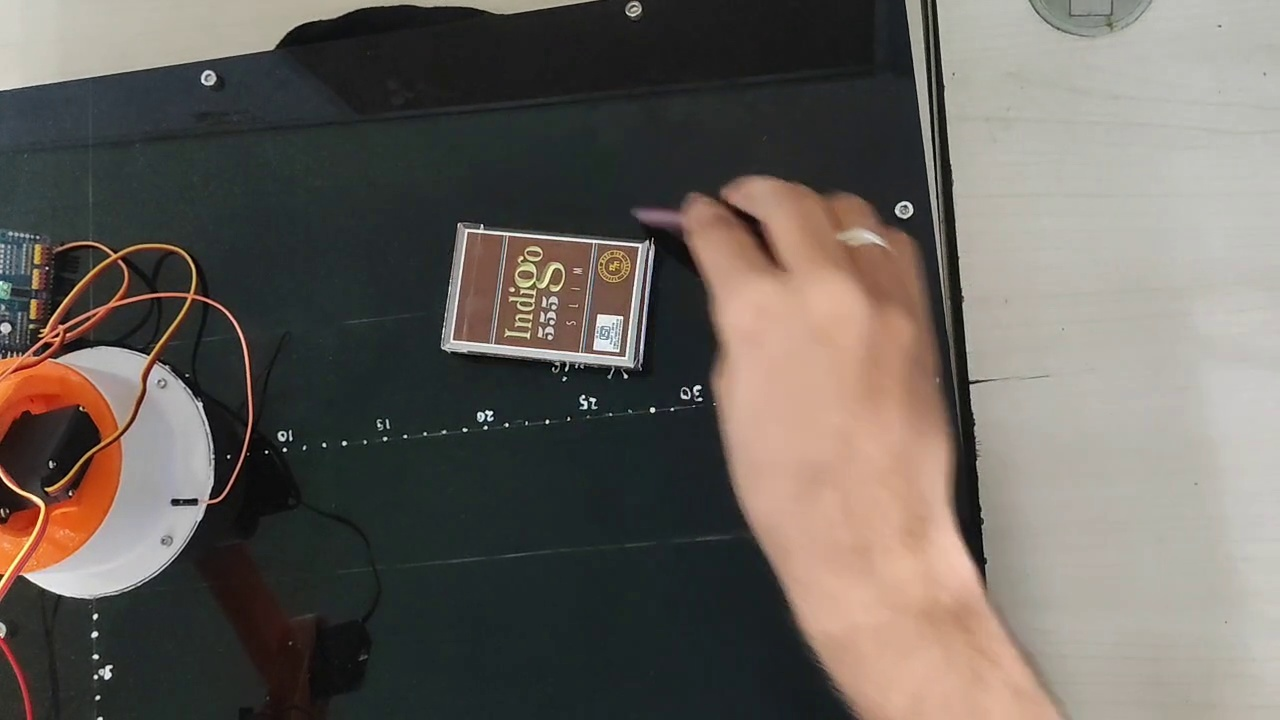BEX: (451, 228, 644, 356)
